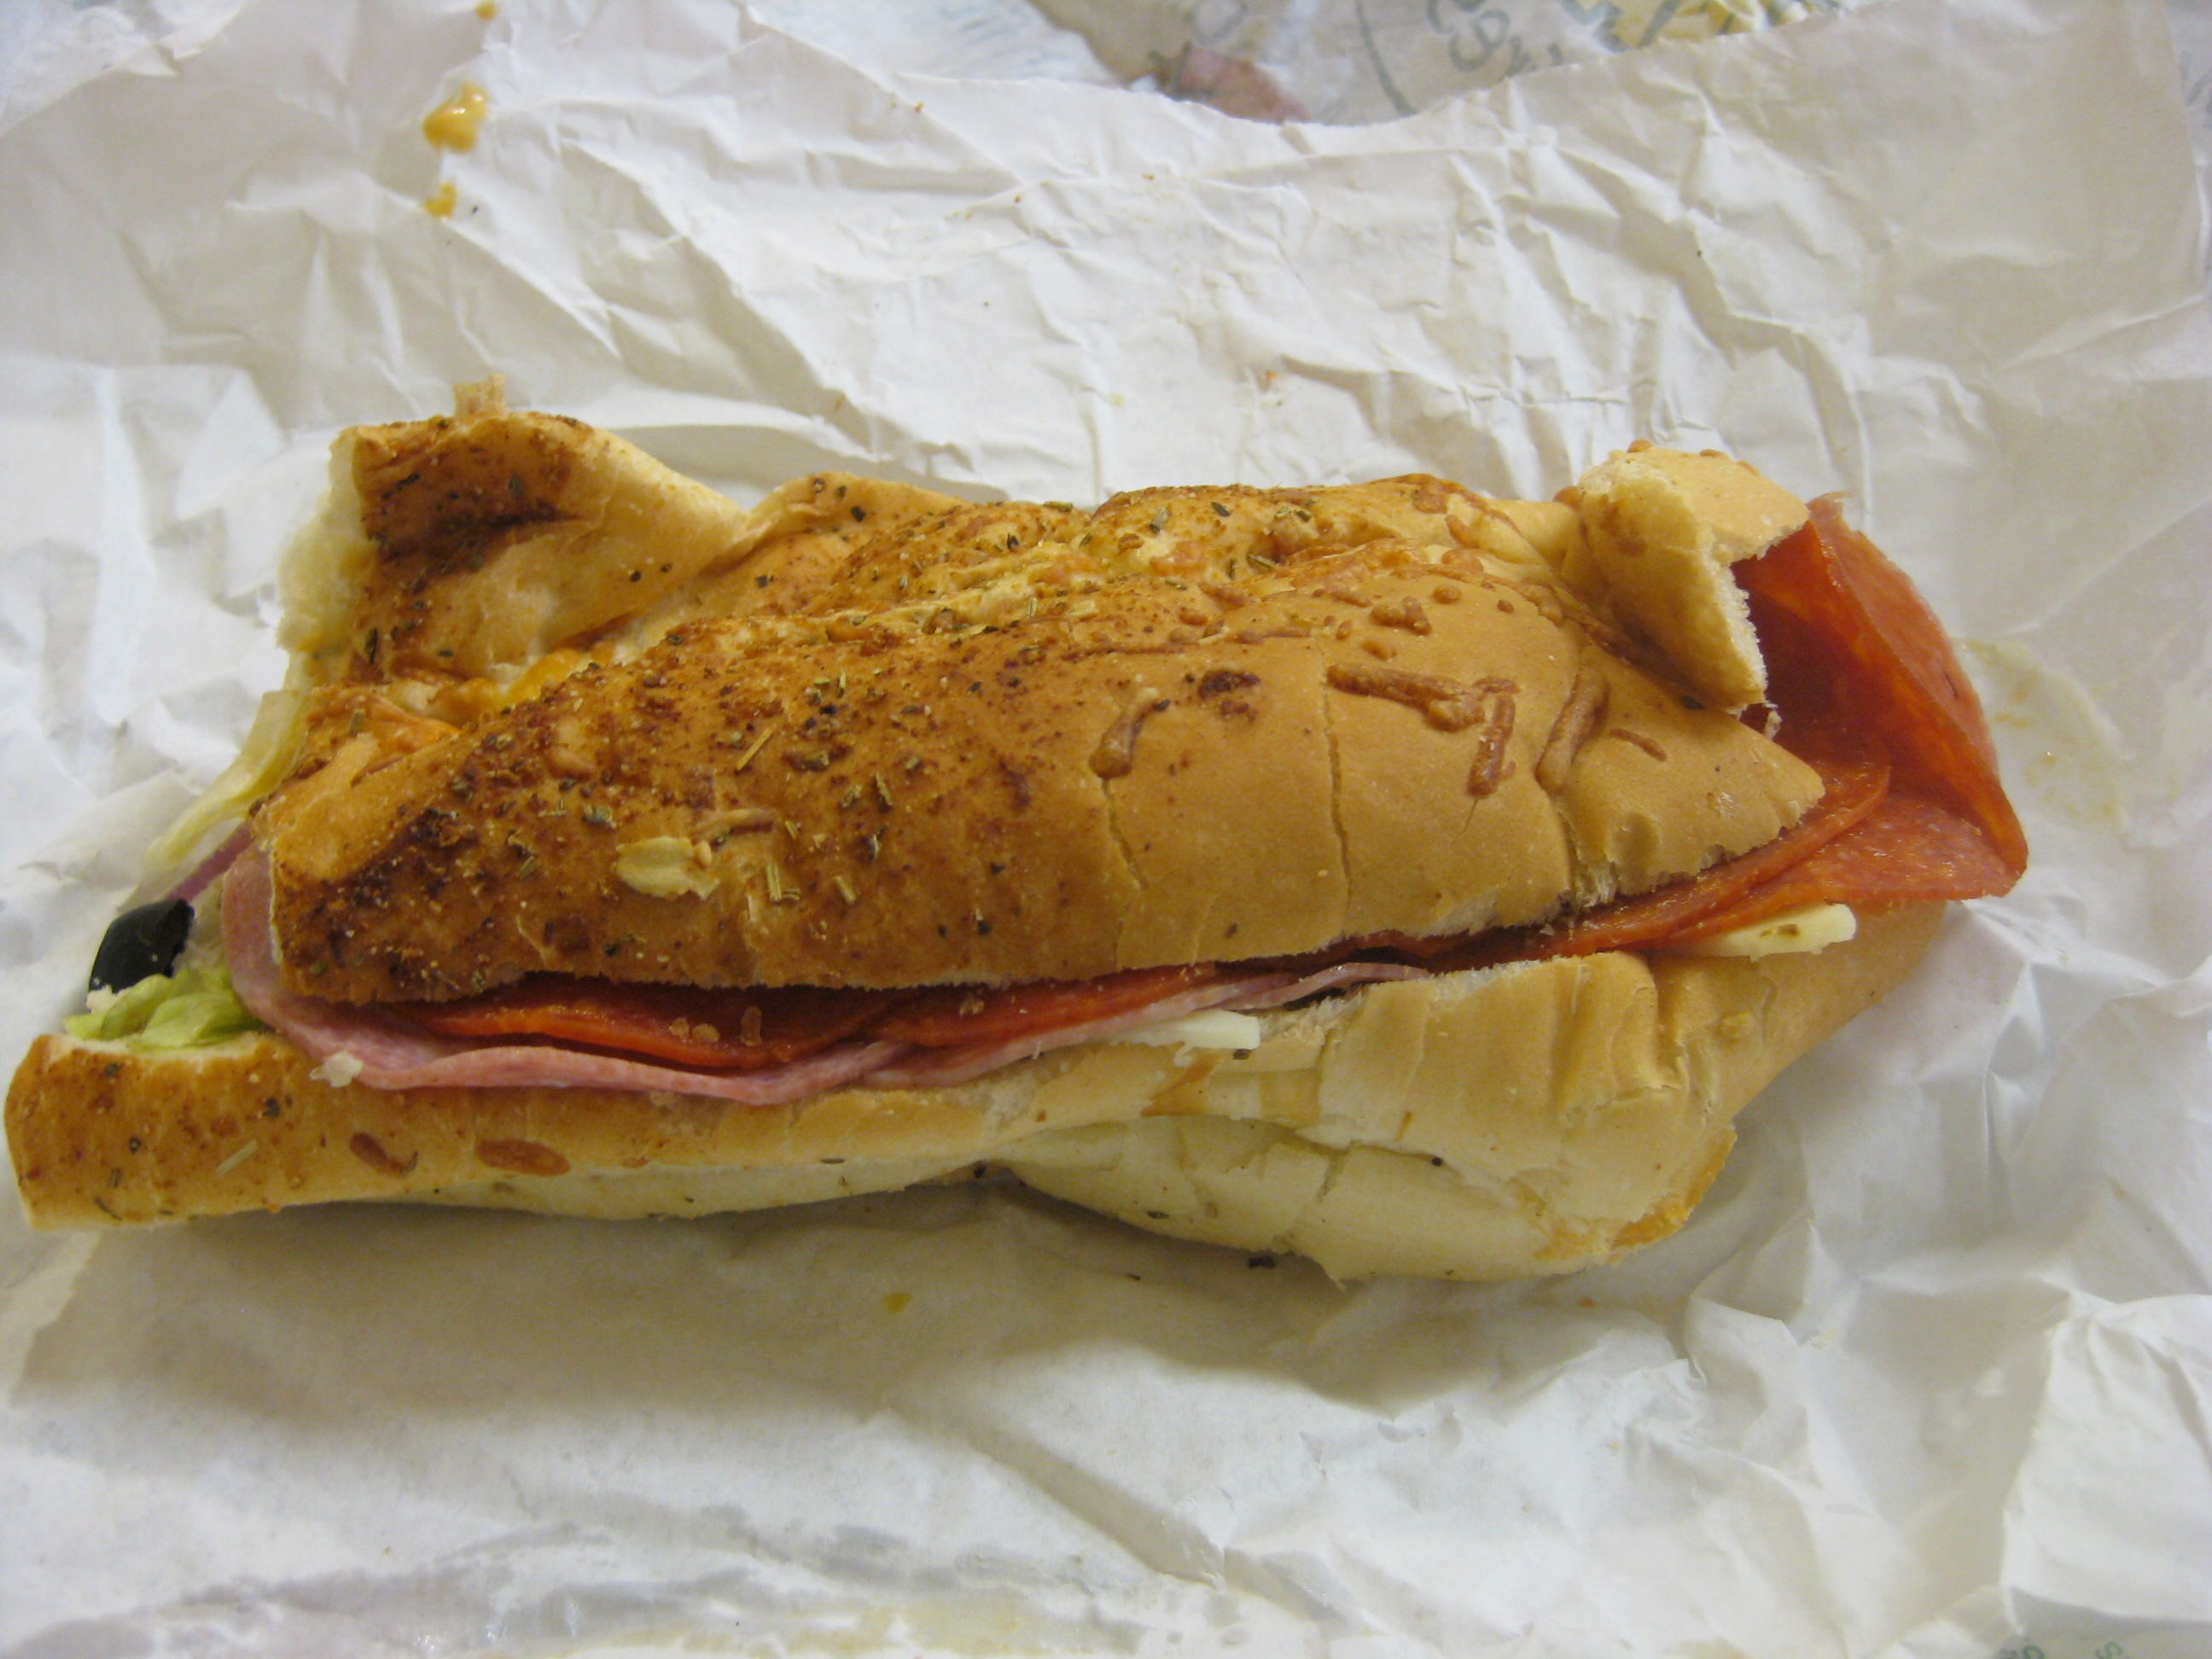sub: (15, 368, 2116, 1280)
